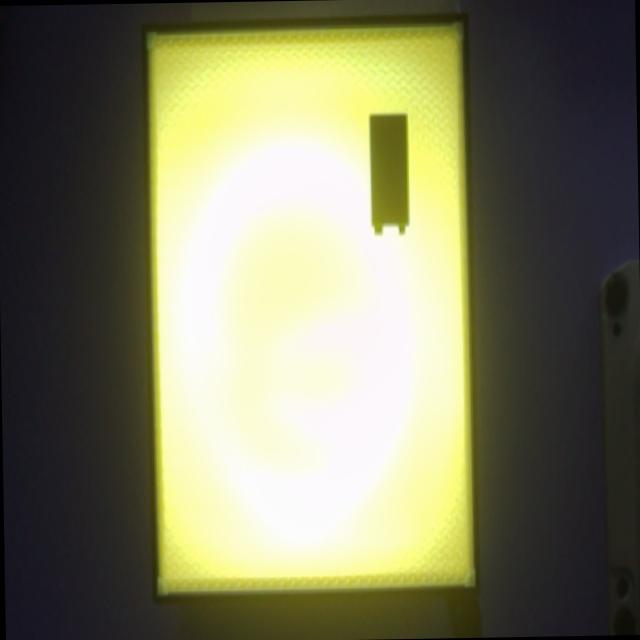bateria: (368, 111, 408, 232)
mesa: (141, 13, 480, 603)
